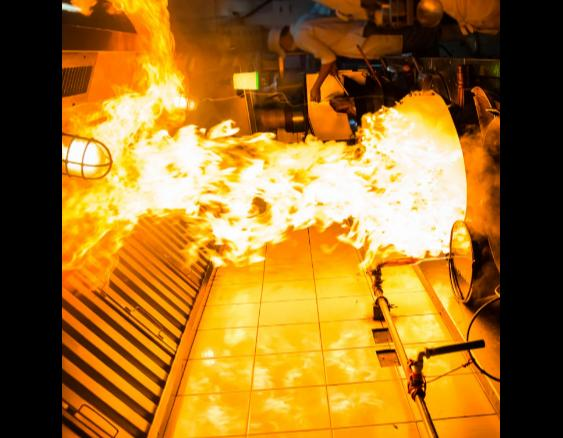fire: (140, 1, 458, 298)
